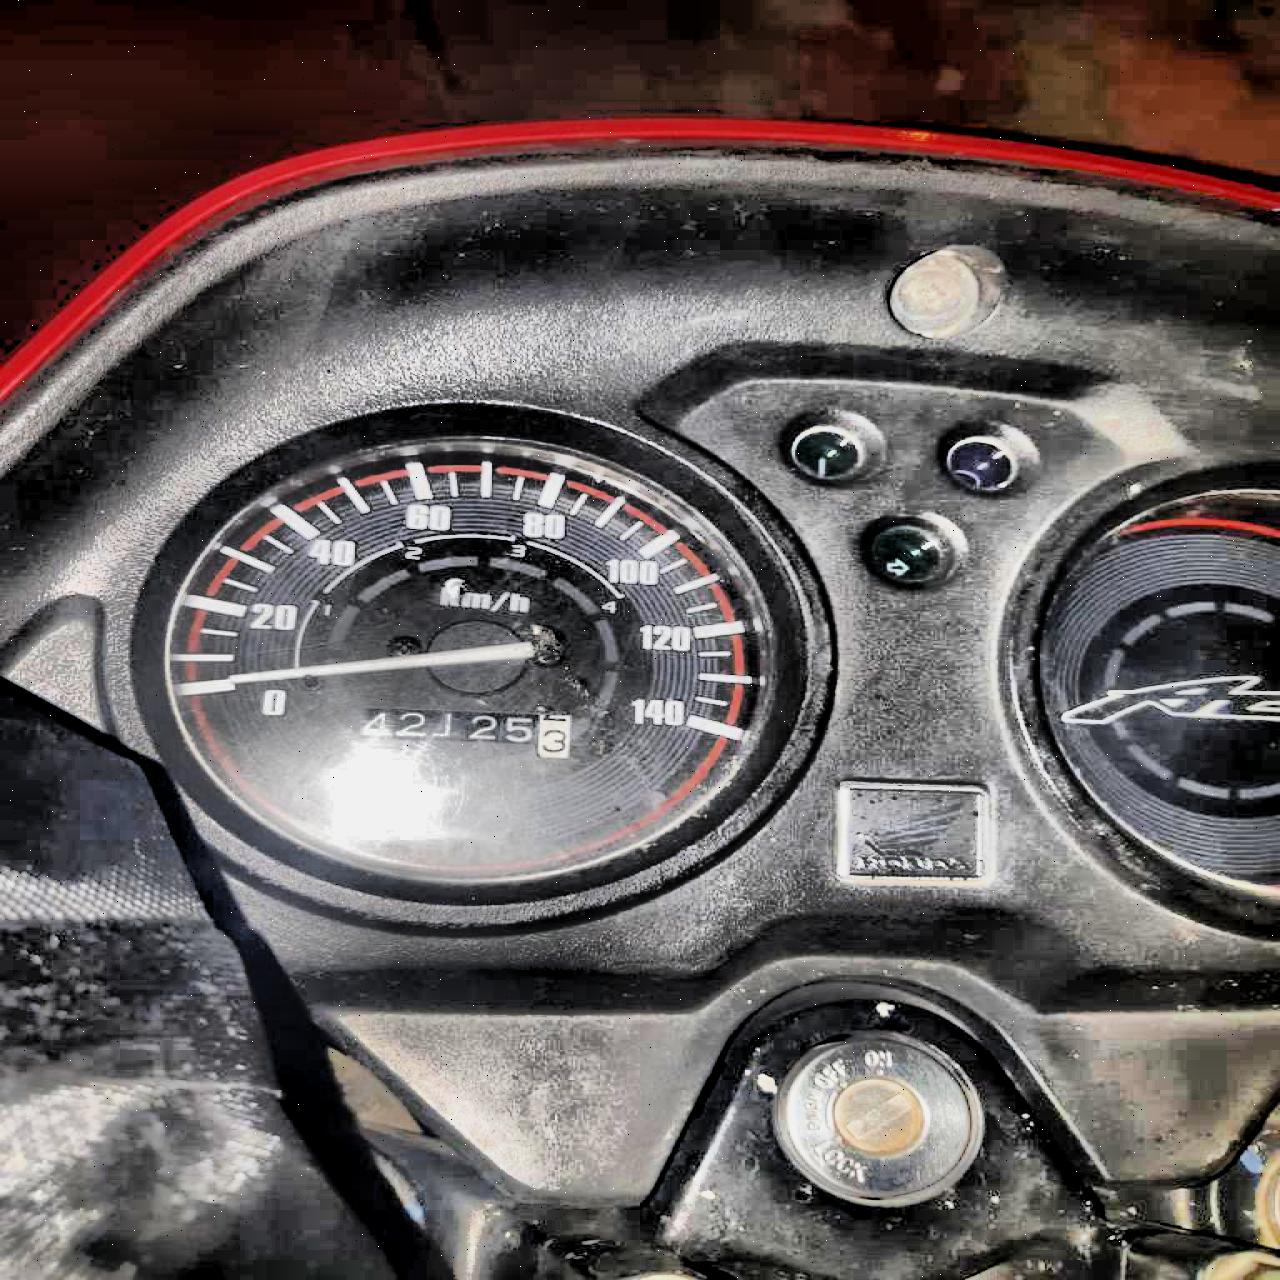1: (441, 712, 451, 736)
2: (396, 710, 427, 736), (467, 714, 496, 738)
3: (542, 729, 566, 751)
4: (365, 710, 390, 736)
5: (503, 716, 532, 742)
odometer: (355, 704, 576, 760)
